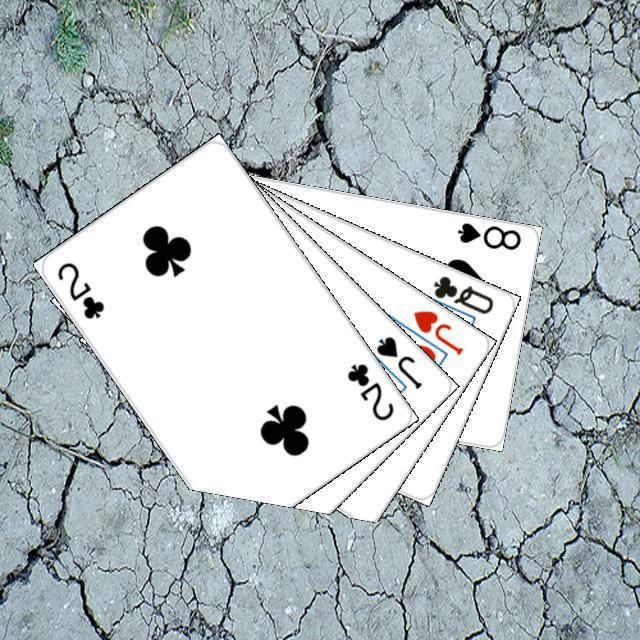2c: (342, 358, 396, 423), (52, 257, 106, 321)
8s: (452, 217, 523, 252)
Jh: (408, 305, 465, 357)
Js: (371, 331, 424, 391)
Qc: (416, 270, 496, 324)
